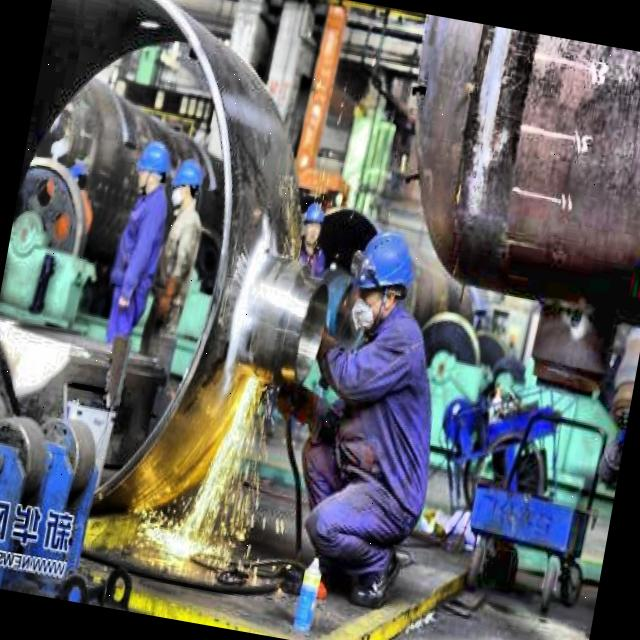helmet: (348, 232, 424, 330), (130, 133, 178, 201), (166, 154, 206, 216), (300, 196, 330, 248)
